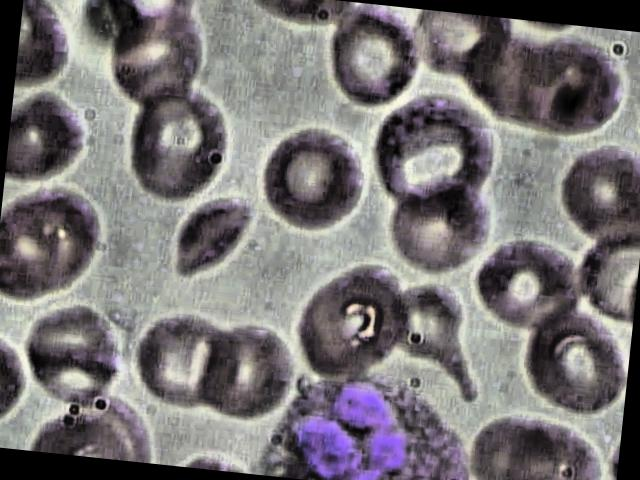WBC: (254, 360, 485, 480)
